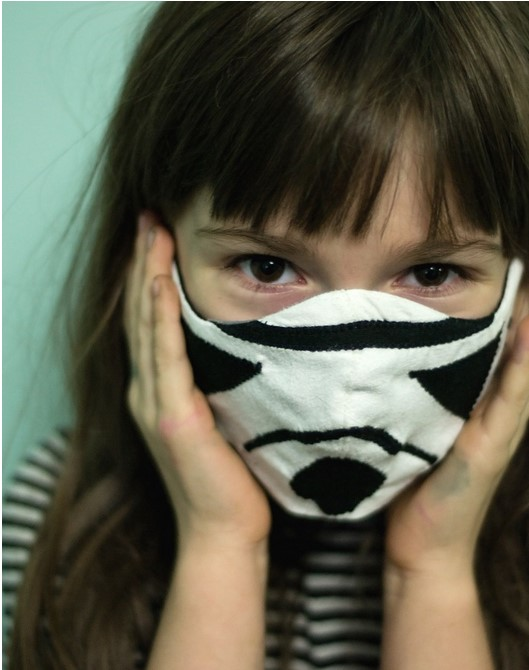face_with_mask: (123, 6, 527, 524)
